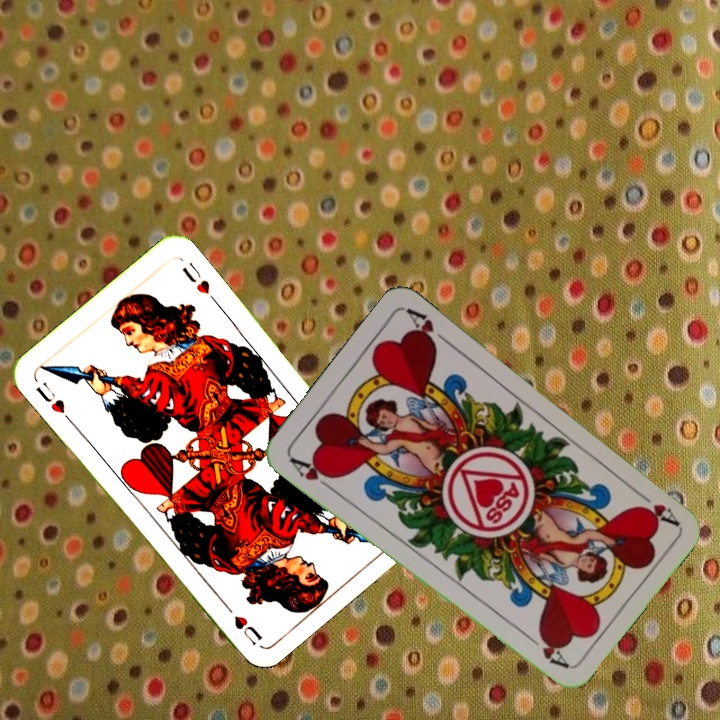HA: (285, 452, 339, 494), (630, 485, 681, 529)
HU: (31, 377, 74, 425)
